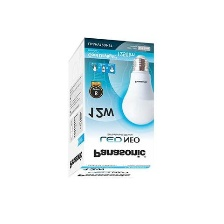carton: (65, 31, 160, 185)
